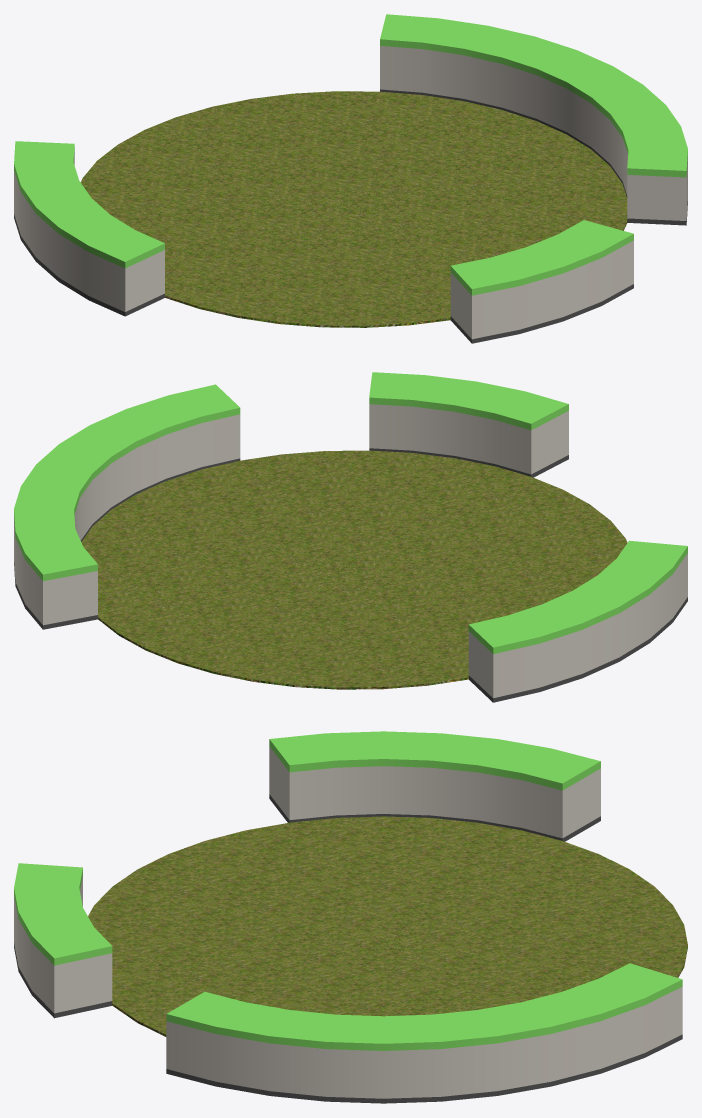
File: Prop_F2_Playground_Chair.fbx
3 renders of one model, top to bottom at view 1: azimuth 30°, elevation 25°; view 2: azimuth 150°, elevation 25°; view 3: azimuth 270°, elevation 25°, orthographic. The views are drawn at different scales.
Parts seen in each view (by area): view 1: F2_Playground_Chair; view 2: F2_Playground_Chair; view 3: F2_Playground_Chair.
Boxes of the visible parts, x1,y1,x2,y2 form: F2_Playground_Chair: (14,14,687,343); F2_Playground_Chair: (14,372,687,702); F2_Playground_Chair: (14,731,687,1103).
Bounding box in the file's own units: 648 × 57.76 × 590.
4 materials, 1 textured.
